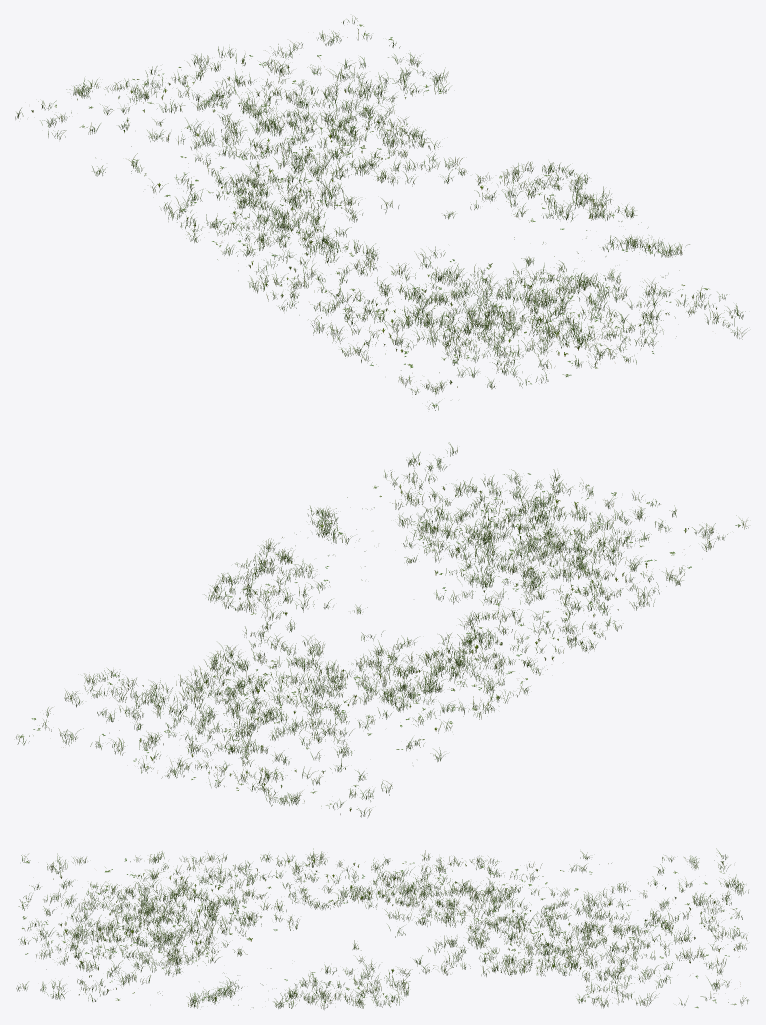
File: natural-grass-west.glb
3 views of the same model, one above another, from view 1: azimuth 30°, elevation 25°; view 2: azimuth 150°, elevation 25°; view 3: azimuth 270°, elevation 25° (orthographic). The views are drawn at different scales.
Visible parts, largest first — view 1: V10_WildGrass_lot_+01_+01, V10_WildGrass_lot_+02_+02, V10_WildGrass_lot_+02_-01, V10_WildGrass_lot_+01_+00, V10_WildGrass_lot_+02_+01, V10_WildGrass_lot_+01_-01, V10_WildGrass_lot_+02_+00, V10_WildGrass_lot_+01_+02; view 2: V10_WildGrass_lot_+01_+01, V10_WildGrass_lot_+02_+02, V10_WildGrass_lot_+01_+00, V10_WildGrass_lot_+02_-01, V10_WildGrass_lot_+02_+01, V10_WildGrass_lot_+01_-01, V10_WildGrass_lot_+02_+00, V10_WildGrass_lot_+01_+02; view 3: V10_WildGrass_lot_+01_+01, V10_WildGrass_lot_+01_+00, V10_WildGrass_lot_+02_+02, V10_WildGrass_lot_+02_-01, V10_WildGrass_lot_+02_+01, V10_WildGrass_lot_+01_-01, V10_WildGrass_lot_+02_+00, V10_WildGrass_lot_+01_+02.
Part boxes in pixels (x1,y1,x2,y2): V10_WildGrass_lot_+01_+01: [144, 137, 362, 259]; V10_WildGrass_lot_+02_+02: [178, 16, 449, 136]; V10_WildGrass_lot_+02_-01: [491, 269, 747, 368]; V10_WildGrass_lot_+01_+00: [238, 227, 493, 343]; V10_WildGrass_lot_+02_+01: [267, 103, 575, 213]; V10_WildGrass_lot_+01_-01: [341, 299, 572, 410]; V10_WildGrass_lot_+02_+00: [429, 173, 689, 302]; V10_WildGrass_lot_+01_+02: [15, 66, 246, 176]; V10_WildGrass_lot_+01_+01: [304, 635, 547, 740]; V10_WildGrass_lot_+02_+02: [16, 668, 288, 779]; V10_WildGrass_lot_+01_+00: [439, 549, 659, 662]; V10_WildGrass_lot_+02_-01: [347, 442, 593, 554]; V10_WildGrass_lot_+02_+01: [176, 580, 383, 713]; V10_WildGrass_lot_+01_-01: [512, 491, 748, 586]; V10_WildGrass_lot_+02_+00: [218, 506, 514, 614]; V10_WildGrass_lot_+01_+02: [208, 714, 445, 817]; V10_WildGrass_lot_+01_+01: [371, 850, 571, 927]; V10_WildGrass_lot_+01_+00: [173, 848, 377, 925]; V10_WildGrass_lot_+02_+02: [563, 916, 748, 1008]; V10_WildGrass_lot_+02_-01: [16, 915, 186, 1001]; V10_WildGrass_lot_+02_+01: [369, 916, 579, 1007]; V10_WildGrass_lot_+01_-01: [18, 851, 184, 926]; V10_WildGrass_lot_+02_+00: [173, 916, 381, 1009]; V10_WildGrass_lot_+01_+02: [569, 848, 748, 924].
Size of the model in its own units: 9.5 by 0.3591 by 18.77.
4 materials, 2 textured.
